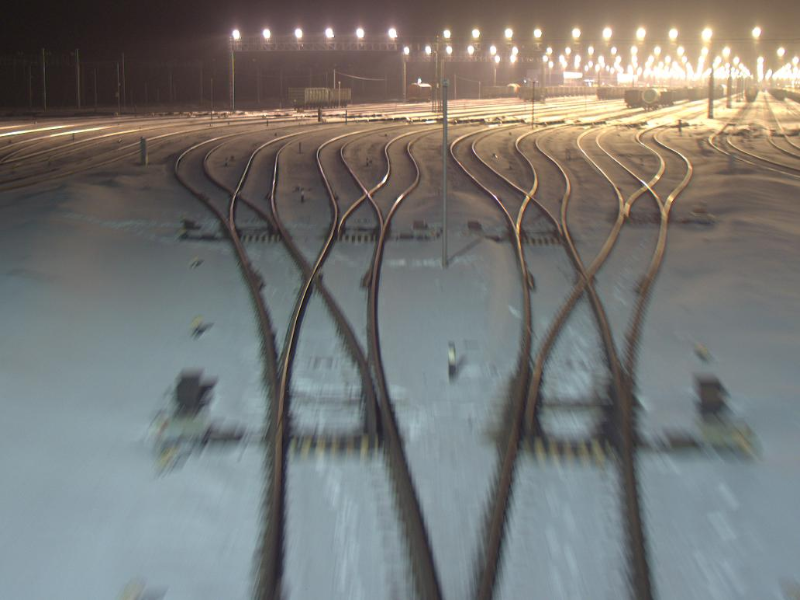railway_arrows: (525, 280, 645, 456), (271, 272, 390, 445), (215, 188, 287, 259), (502, 190, 574, 252), (334, 188, 389, 245), (618, 183, 670, 225)
